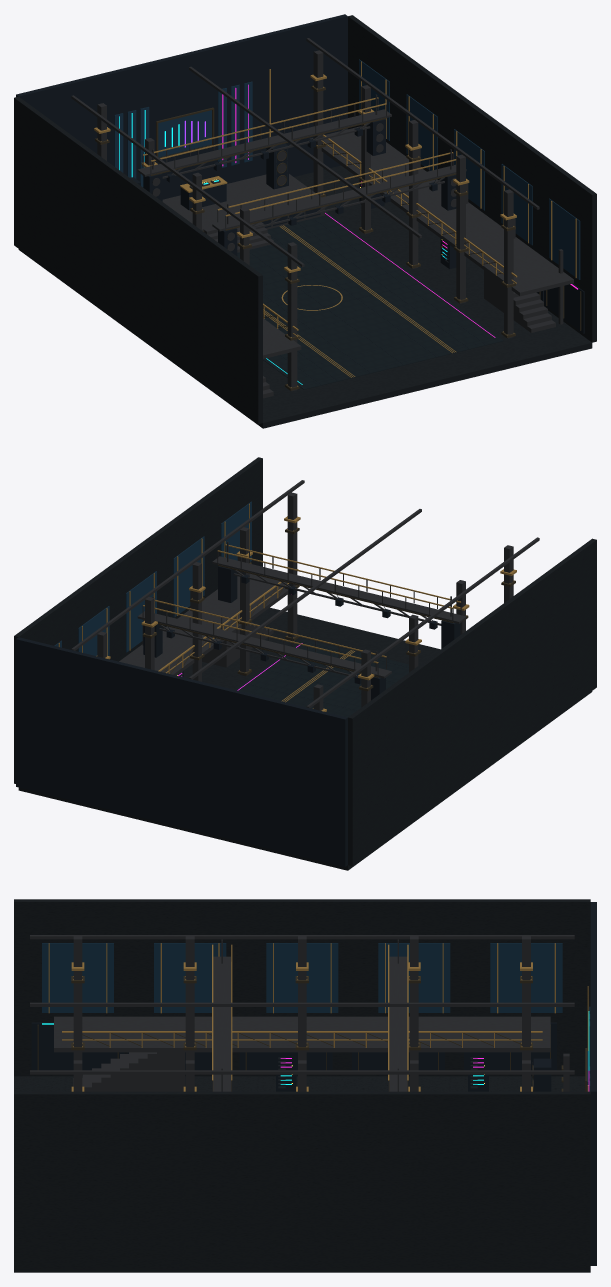
The model's file is club_08c6.glb.
The picture shows the model from 3 angles, top to bottom: view 1: azimuth 30°, elevation 25°; view 2: azimuth 150°, elevation 25°; view 3: azimuth 270°, elevation 25°; orthographic projection. The views are drawn at different scales.
Visible parts, largest first — view 1: Pared izquierda, Pared escenario, Pista principal, Suelo continuo, Pared derecha, Balcón lateral (×2), Pilar industrial (×6), Panel cristal (×5), Pasarela transversal (×2), Viga longitudinal (×3), Escenario, Panel escenario (×3) (+4 smaller); view 2: Pared escenario, Pared izquierda, Pared derecha, Suelo continuo, Pista principal, Panel cristal (×4), Pasarela transversal (×2), Balcón lateral, Pilar industrial (×4), Viga longitudinal (×3), Caja de altavoz; view 3: Pared derecha, Pared izquierda, Panel cristal (×5), Balcón lateral, Viga longitudinal (×3), Suelo continuo, Panel inferior industrial (×4), Pilar industrial (×5), Pasarela transversal (×2), Pared escenario, Armario técnico (×2), Pasamanos balcón (+2 smaller).
Part boxes in pixels (x1,y1,x2,y2): Pared izquierda: (14, 96, 262, 423); Pared escenario: (16, 14, 347, 199); Pista principal: (237, 211, 503, 389); Suelo continuo: (18, 165, 592, 428); Pared derecha: (348, 15, 596, 342); Balcón lateral (×2): (263, 126, 573, 358); Pilar industrial (×6): (287, 50, 513, 391); Panel cristal (×5): (359, 59, 580, 279); Pasarela transversal (×2): (137, 109, 466, 231); Viga longitudinal (×3): (71, 38, 539, 267); Escenario: (162, 174, 324, 230); Panel escenario (×3): (127, 81, 252, 178); Pared escenario: (16, 637, 347, 866); Pared izquierda: (348, 538, 596, 866); Pared derecha: (14, 457, 262, 783); Suelo continuo: (18, 607, 592, 870); Pista principal: (234, 639, 408, 717); Panel cristal (×4): (78, 501, 251, 656); Pasarela transversal (×2): (137, 556, 466, 678); Balcón lateral: (119, 573, 288, 675); Pilar industrial (×4): (145, 492, 297, 681); Viga longitudinal (×3): (71, 480, 539, 707); Caja de altavoz: (218, 566, 237, 602); Pared derecha: (14, 1091, 590, 1268); Pared izquierda: (14, 899, 590, 1076); Panel cristal (×5): (42, 943, 562, 1012); Balcón lateral: (54, 1016, 550, 1052); Viga longitudinal (×3): (30, 935, 574, 1074); Suelo continuo: (14, 1076, 590, 1272); Panel inferior industrial (×4): (31, 1022, 556, 1070); Pilar industrial (×5): (73, 936, 530, 1060); Pasarela transversal (×2): (213, 956, 407, 1091); Pared escenario: (590, 902, 596, 1265); Armario técnico (×2): (276, 1052, 488, 1091); Pasamanos balcón: (62, 1031, 542, 1032).
Size of the model in its own units: 28.8 by 12.46 by 36.4.
Materials: 14 (4 with a texture image).
